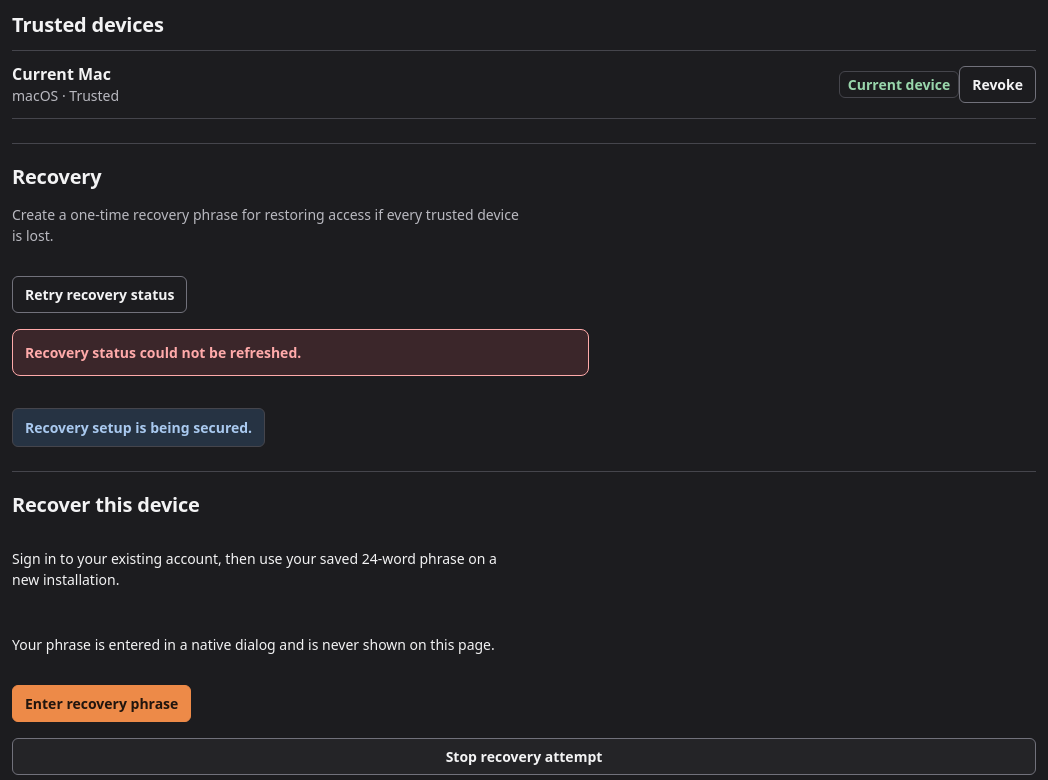
DevicesScreen › retries status after a submitting poll fails without replacing enrollment
Click the button "Retry recovery status": (100, 295) left=12, top=276, right=187, bottom=313
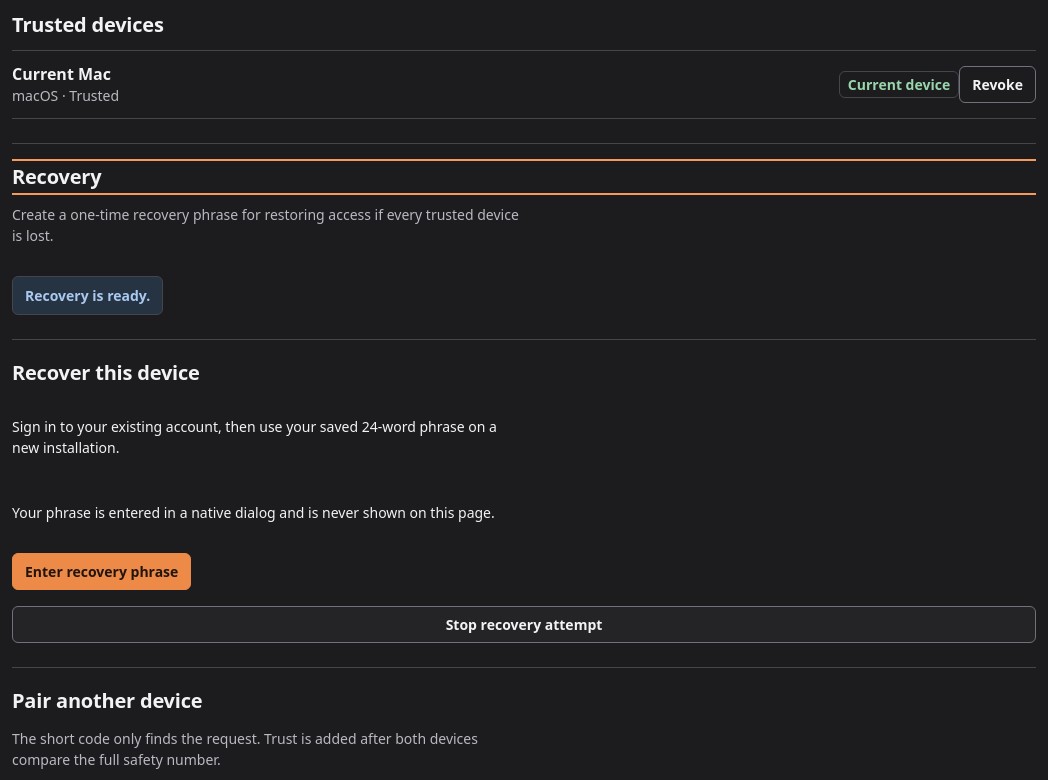
Expected: the message reads "Recovery is ready.", left=25, top=286, right=150, bottom=305
